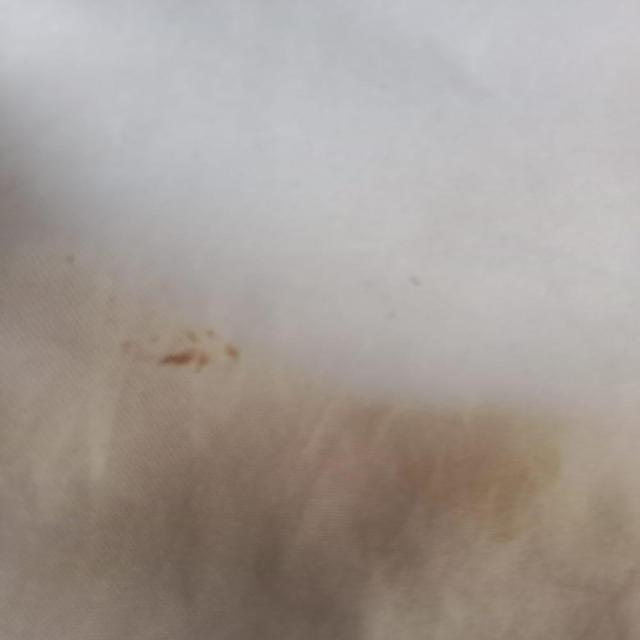stain: (34, 416, 574, 614), (124, 322, 255, 372)
